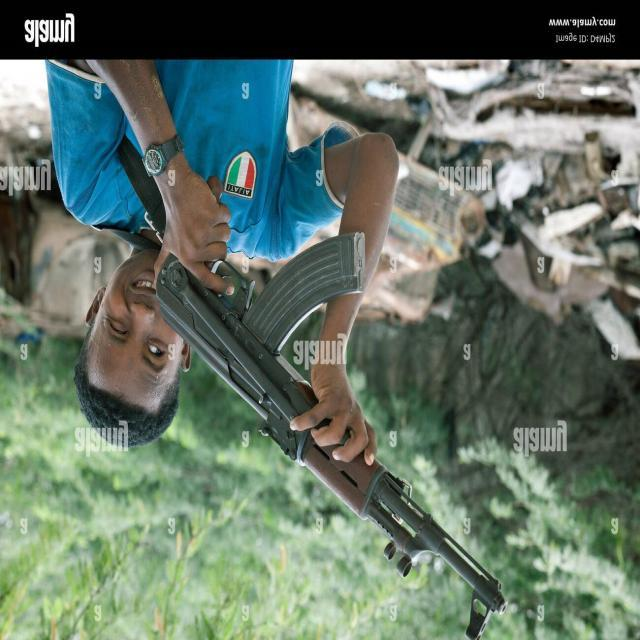weapon: (116, 130, 507, 640)
